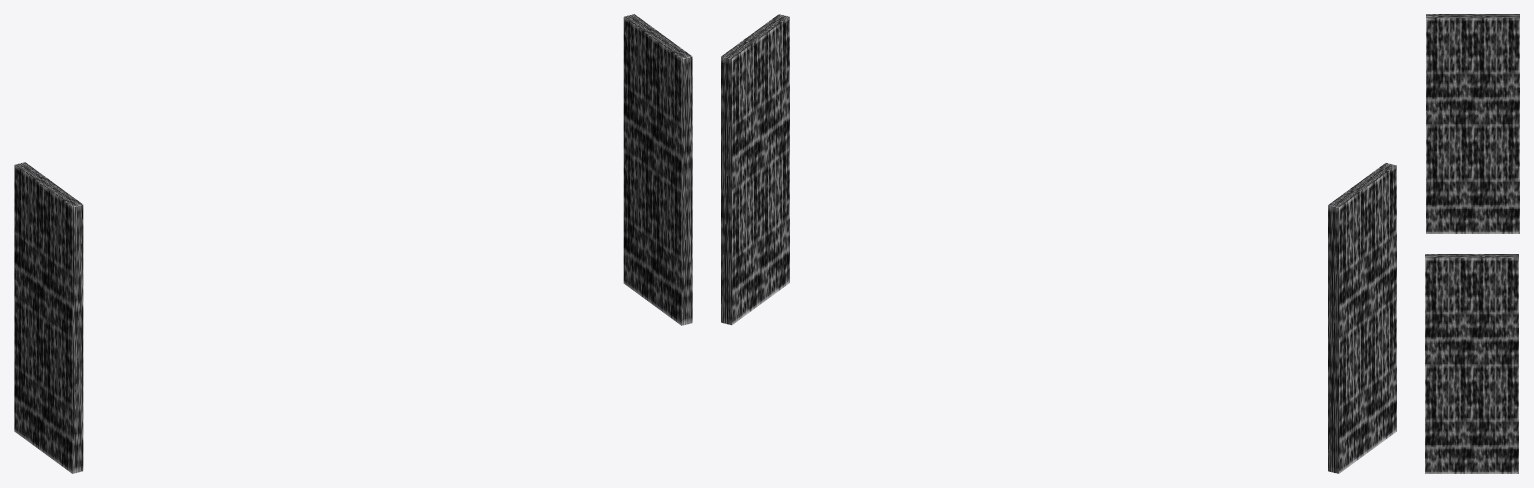
The model's file is Area2.fbx.
The picture shows the model from 3 angles, left to right: view 1: azimuth 30°, elevation 25°; view 2: azimuth 150°, elevation 25°; view 3: azimuth 270°, elevation 25°; orthographic projection. The views are drawn at different scales.
Parts seen in each view (by area): view 1: Cube, Cube__1_; view 2: Cube, Cube__1_; view 3: Cube, Cube__1_.
Part boxes in pixels (x1,y1,x2,y2): Cube: (14,162,83,473); Cube__1_: (623,14,692,325); Cube: (1328,162,1396,473); Cube__1_: (721,14,789,325); Cube: (1426,14,1519,233); Cube__1_: (1425,254,1518,473).
Bounding box in the file's own units: 5668 × 2332 × 930.
